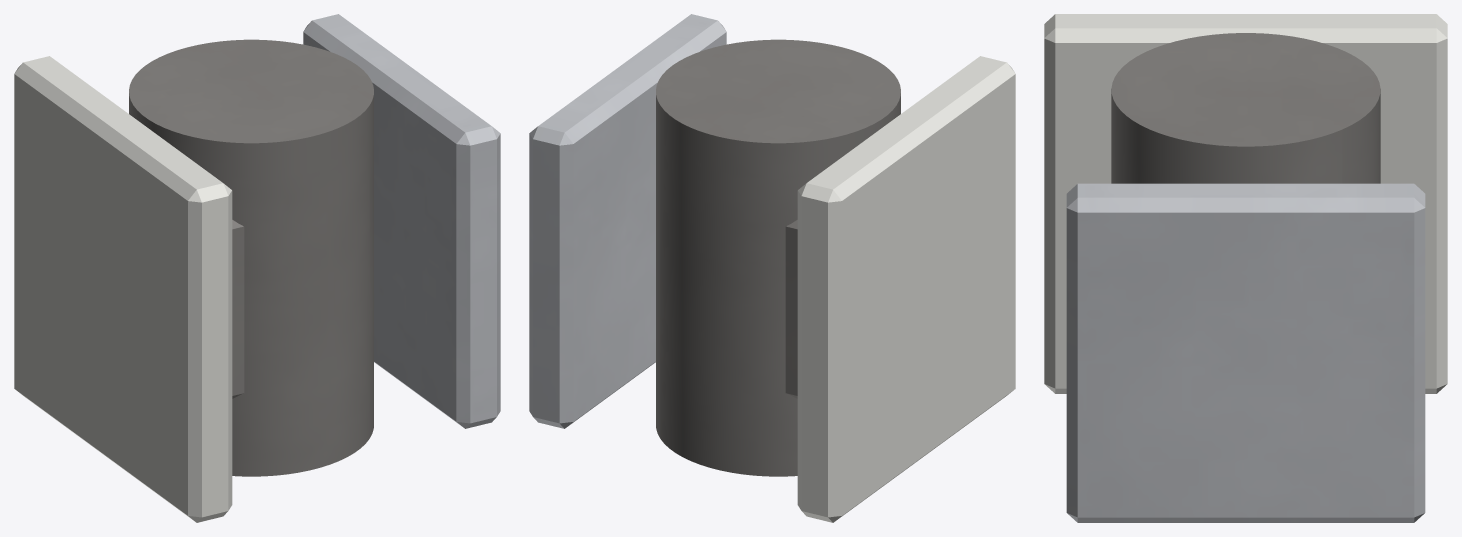
The model's file is ax_rover_19_steering_module.glb.
3 renders of one model, left to right at view 1: azimuth 30°, elevation 25°; view 2: azimuth 150°, elevation 25°; view 3: azimuth 270°, elevation 25°, orthographic. The views are drawn at different scales.
Visible parts, largest first — view 1: mount_plate, actuator_body, steer_plate; view 2: mount_plate, actuator_body, steer_plate; view 3: steer_plate, mount_plate, actuator_body.
Part boxes in pixels (box(x1,y1,x2,y2)): mount_plate: box(14, 56, 232, 522); actuator_body: box(129, 39, 373, 476); steer_plate: box(303, 14, 500, 428); mount_plate: box(797, 56, 1015, 522); actuator_body: box(656, 39, 900, 476); steer_plate: box(529, 14, 726, 428); steer_plate: box(1066, 183, 1425, 522); mount_plate: box(1044, 14, 1447, 393); actuator_body: box(1111, 33, 1380, 183).
Size of the model in its own units: 0.365 by 0.36 by 0.36.
3 materials, 2 textured.
